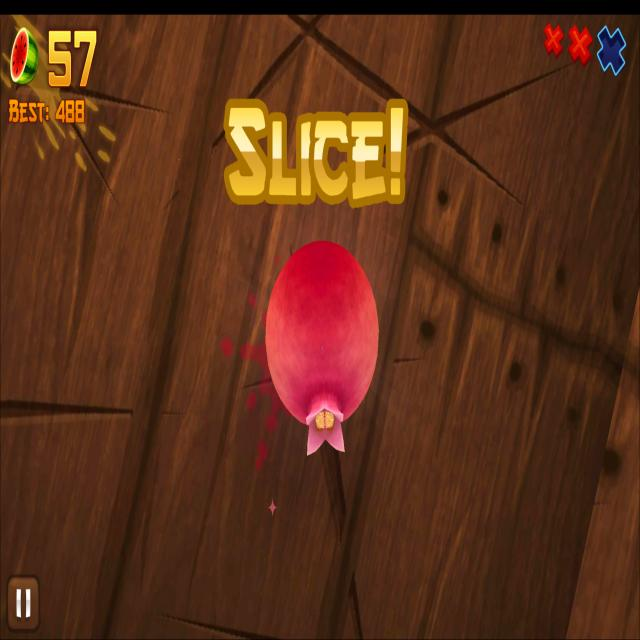fruit: (265, 241, 380, 425)
